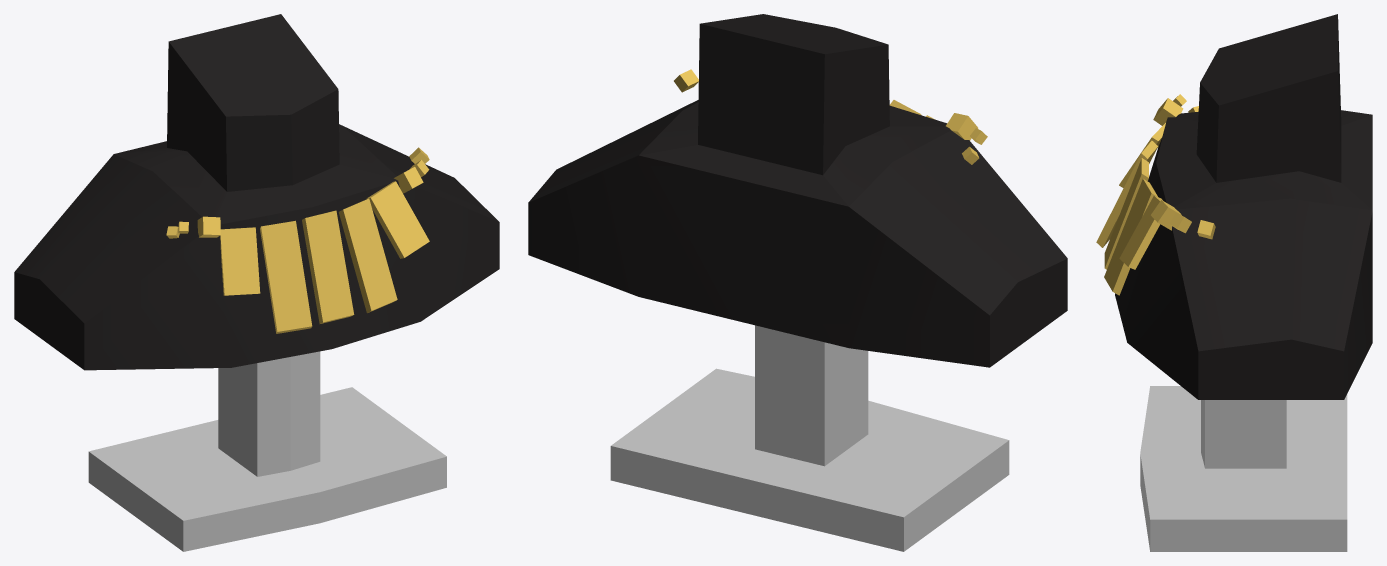
The model's file is egy_mannequin1.fbx.
3 renders of one model, left to right at view 1: azimuth 30°, elevation 25°; view 2: azimuth 150°, elevation 25°; view 3: azimuth 270°, elevation 25°, orthographic. The views are drawn at different scales.
Visible parts, largest first — view 1: mannequin1, polySurface9, polySurface4, polySurface8, polySurface10, polySurface11; view 2: mannequin1; view 3: mannequin1, polySurface8, polySurface11, polySurface4, polySurface9, polySurface6, polySurface5.
Boxes of the visible parts, x1=… form: mannequin1: x1=14, y1=14, x2=499, y2=551; polySurface9: x1=260, y1=220, x2=312, y2=333; polySurface4: x1=302, y1=210, x2=354, y2=323; polySurface8: x1=338, y1=198, x2=397, y2=313; polySurface10: x1=220, y1=227, x2=260, y2=295; polySurface11: x1=366, y1=181, x2=429, y2=258; mannequin1: x1=528, y1=14, x2=1067, y2=551; mannequin1: x1=1115, y1=14, x2=1372, y2=551; polySurface8: x1=1104, y1=179, x2=1157, y2=295; polySurface11: x1=1119, y1=195, x2=1162, y2=269; polySurface4: x1=1104, y1=158, x2=1148, y2=269; polySurface9: x1=1096, y1=140, x2=1158, y2=247; polySurface6: x1=1151, y1=200, x2=1181, y2=230; polySurface5: x1=1153, y1=98, x2=1183, y2=125.
Bounding box in the file's own units: 1.34 × 1.31 × 0.7432.
